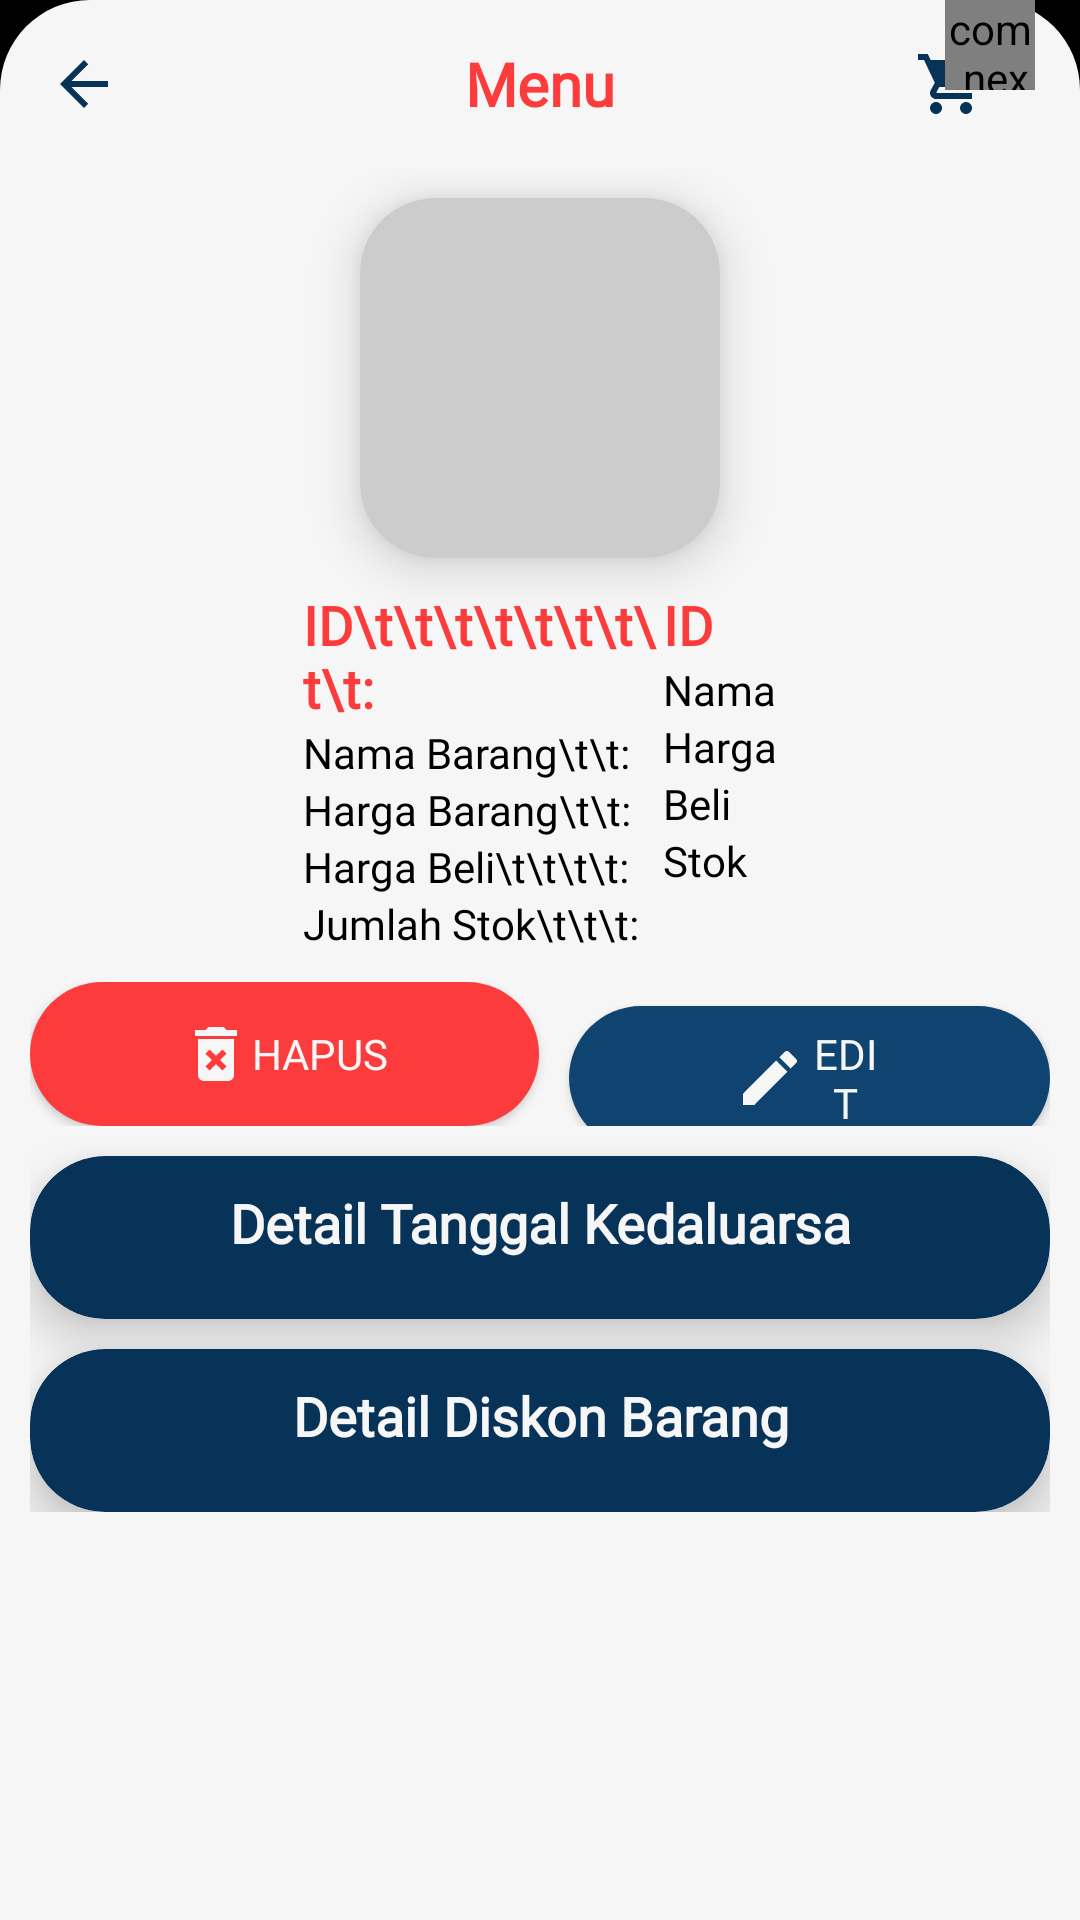

Where to tap for icons on this 1080px x 1920px app screen, as [x,y]:
kembali biru: [84,84]
